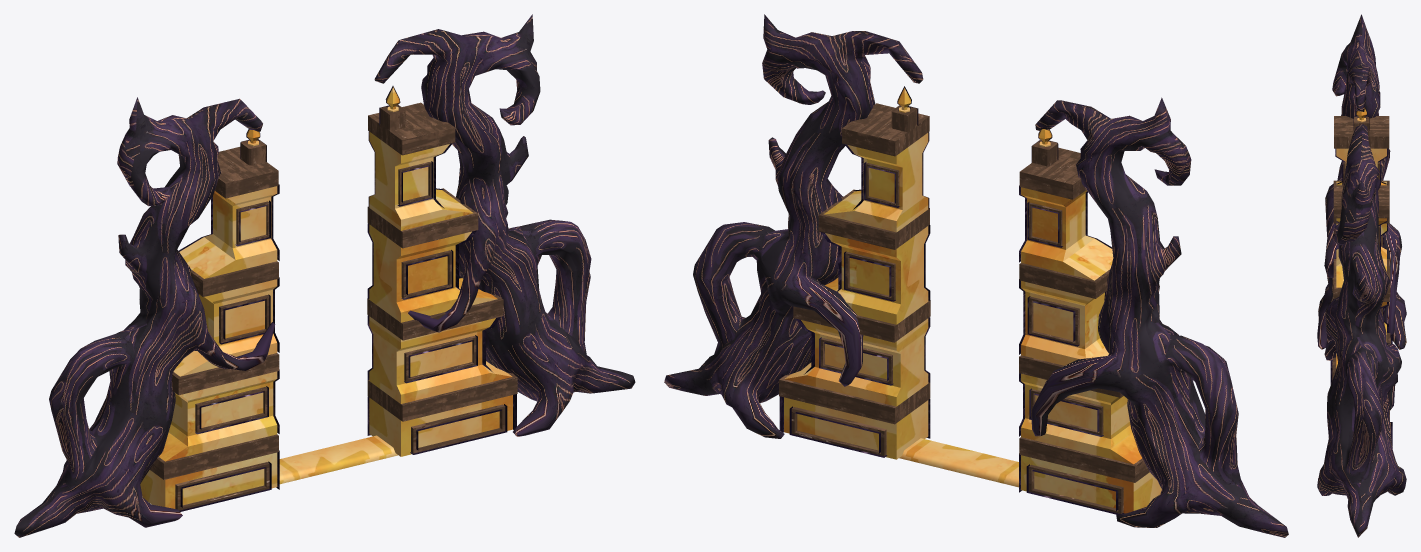
File: pm-skydoor.glb
3 renders of one model, left to right at view 1: azimuth 30°, elevation 25°; view 2: azimuth 150°, elevation 25°; view 3: azimuth 270°, elevation 25°, orthographic. The views are drawn at different scales.
Parts seen in each view (by area): view 1: Skydoor_Art; view 2: Skydoor_Art; view 3: Skydoor_Art.
Boxes of the visible parts, x1,y1,x2,y2 form: Skydoor_Art: (14, 14, 635, 537); Skydoor_Art: (664, 14, 1288, 537); Skydoor_Art: (1317, 14, 1406, 537).
Size of what is drawn, in the model's own units: 15.52 by 9.85 by 2.41.
Materials: 4 (4 with a texture image).
